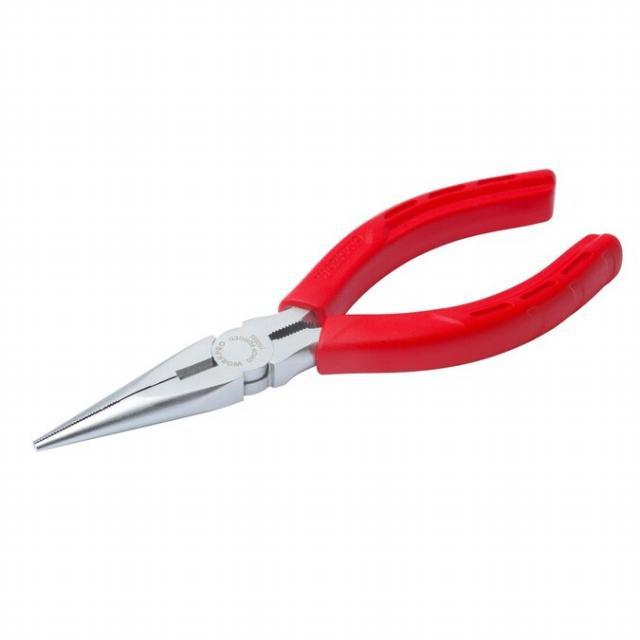pliers: (30, 162, 629, 460)
